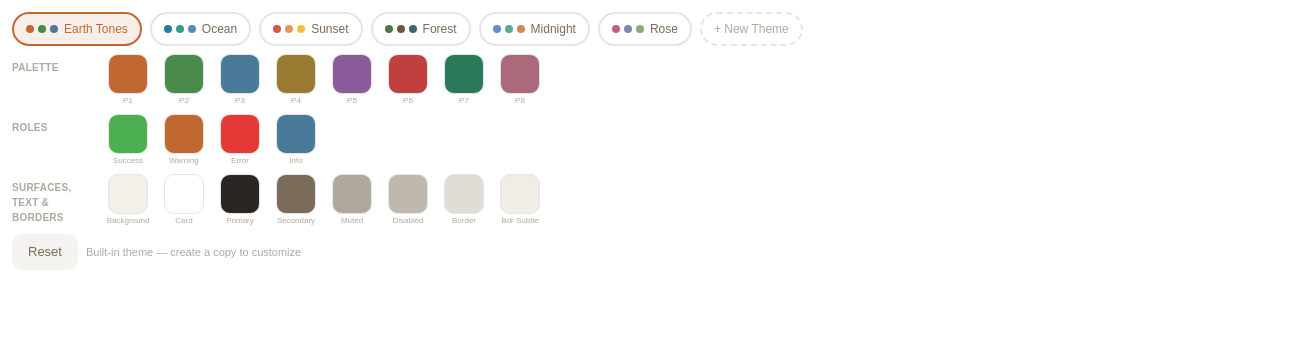
Test: ThemeSettings › says the save failed and puts the previous theme back
Click the button "Ocean" at coordinates (200, 29), box [150,12,251,46]
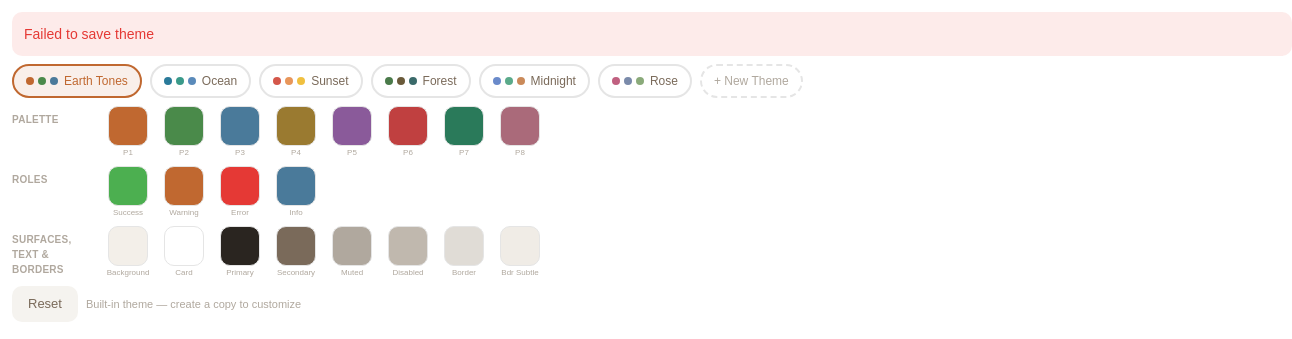
Check: the text "Failed to save theme" is shown, box [12,12,1291,56]
